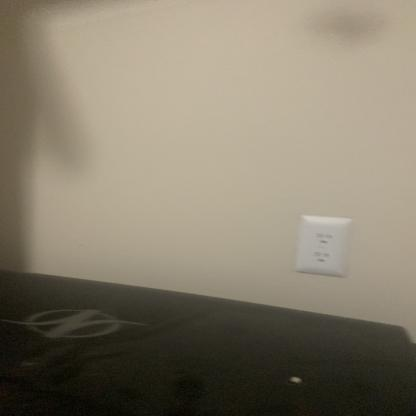OUTLET: (298, 215, 349, 274)
